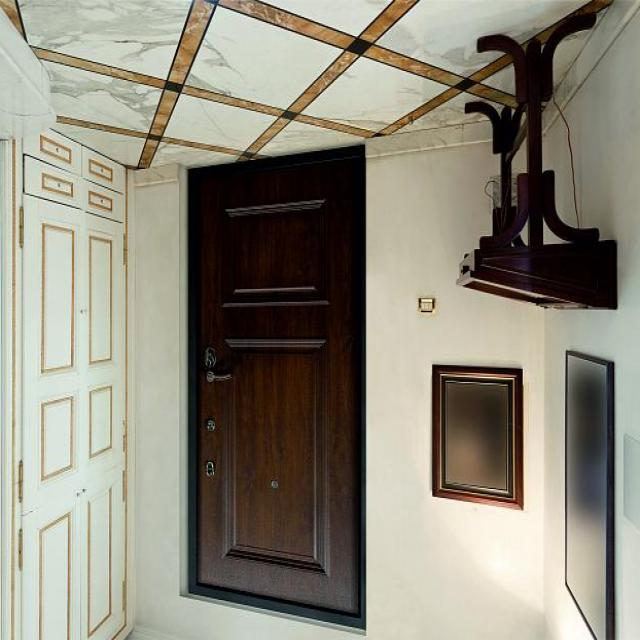close: (194, 182, 366, 622)
